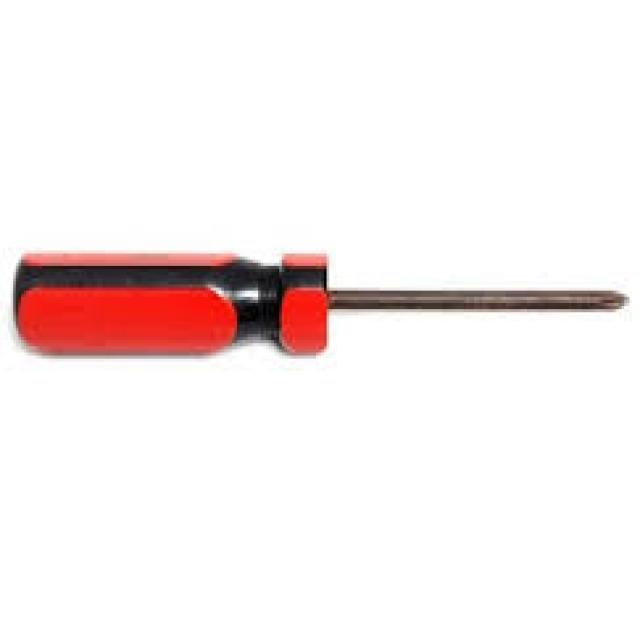screw driver: (8, 218, 640, 401)
